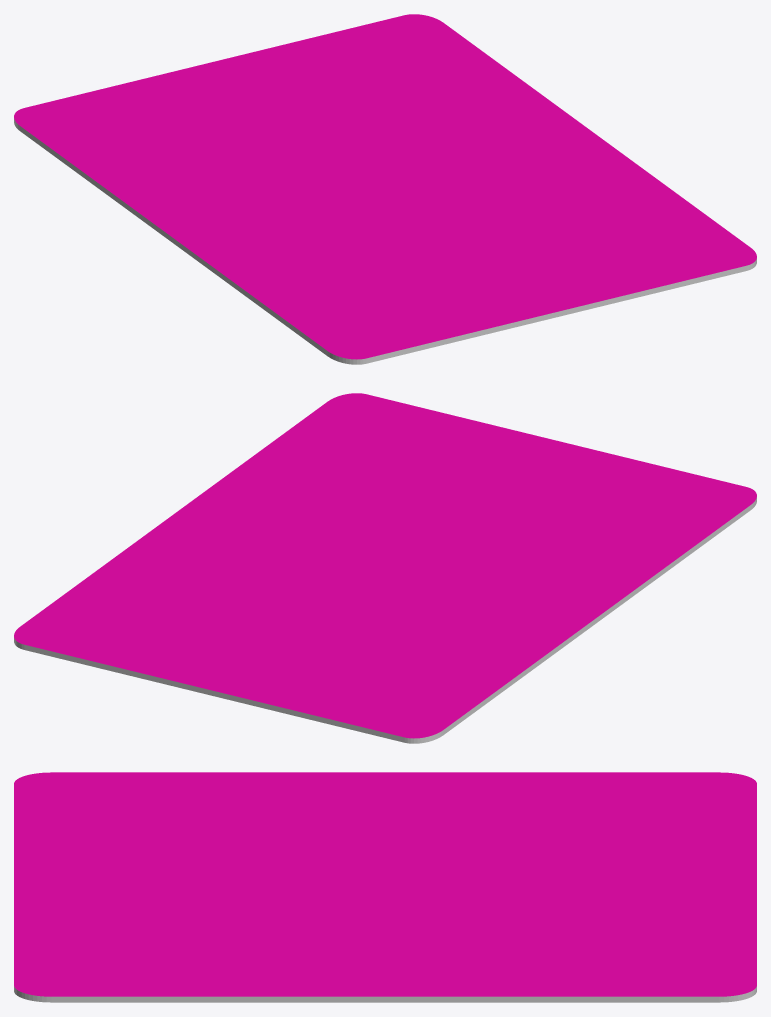
File: PlayingCard Export FBX V4 FINAL.fbx
3 renders of one model, top to bottom at view 1: azimuth 30°, elevation 25°; view 2: azimuth 150°, elevation 25°; view 3: azimuth 270°, elevation 25°, orthographic. The views are drawn at different scales.
Visible parts, largest first — view 1: Plane; view 2: Plane; view 3: Plane.
Part boxes in pixels (<box>): Plane: <box>14,14,756,364</box>; Plane: <box>14,393,756,743</box>; Plane: <box>14,772,756,1002</box>.
Bounding box in the file's own units: 1000 × 12 × 1400.
